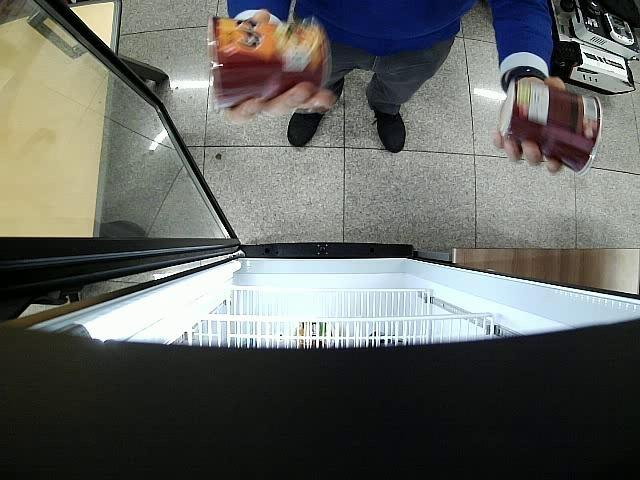06_nuguri_S: (209, 14, 331, 111), (497, 78, 601, 176)
